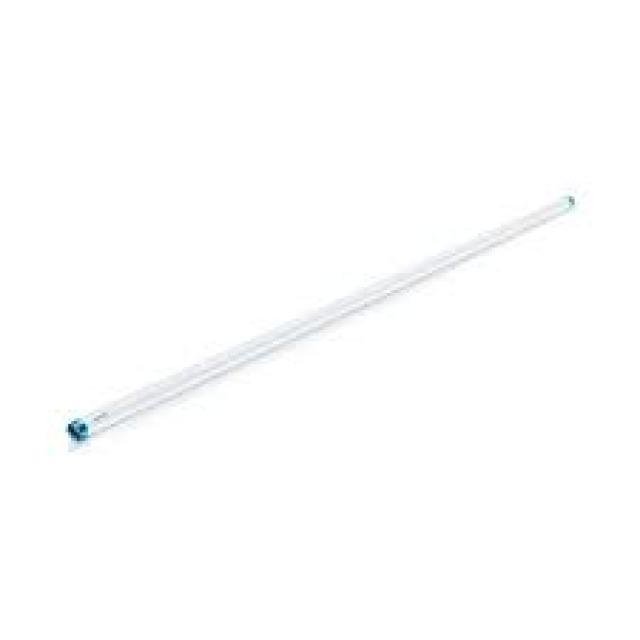tubelight_off: (60, 189, 586, 447)
